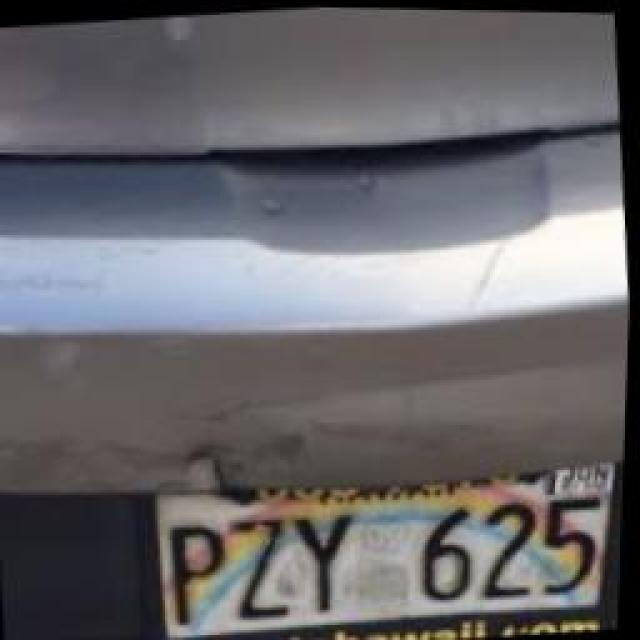Bumper: (0, 92, 637, 526)
